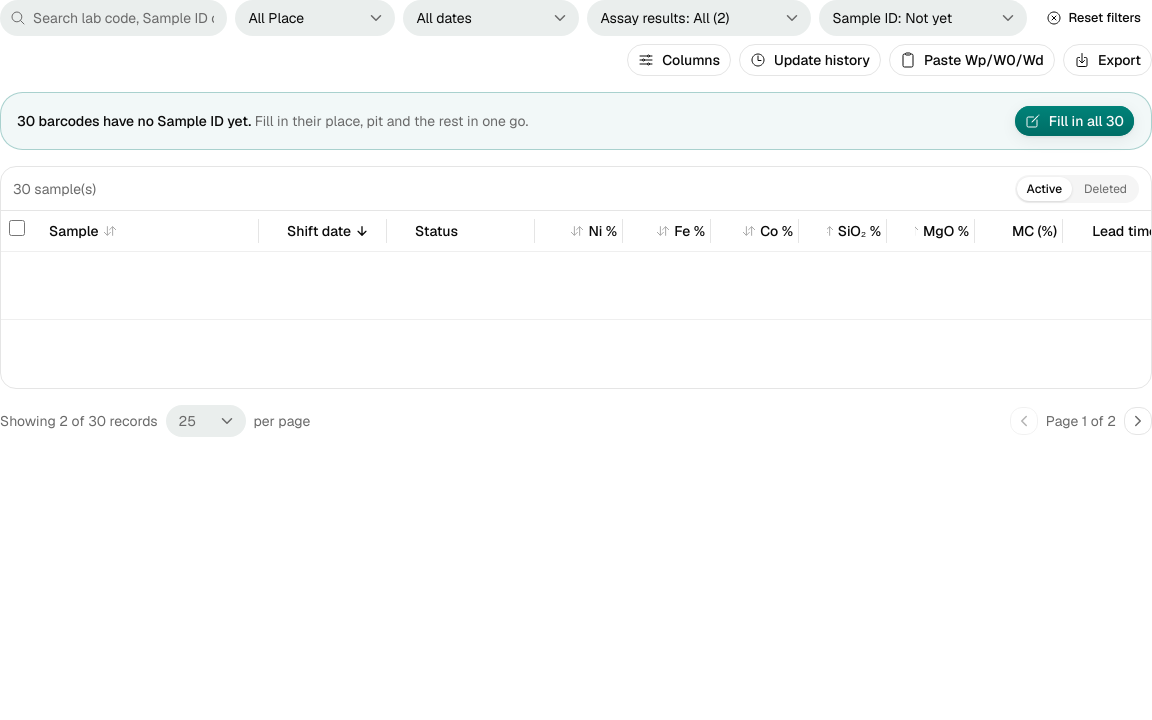
Scenario: filling in identities › invites filling in every barcode still without a Sample ID, in one go
Check: the text "30 barcodes have no Sample ID yet." is shown, box [17,112,251,130]
Click the button "Fill in all 30".
click(1074, 121)  # box [1014,105,1135,137]
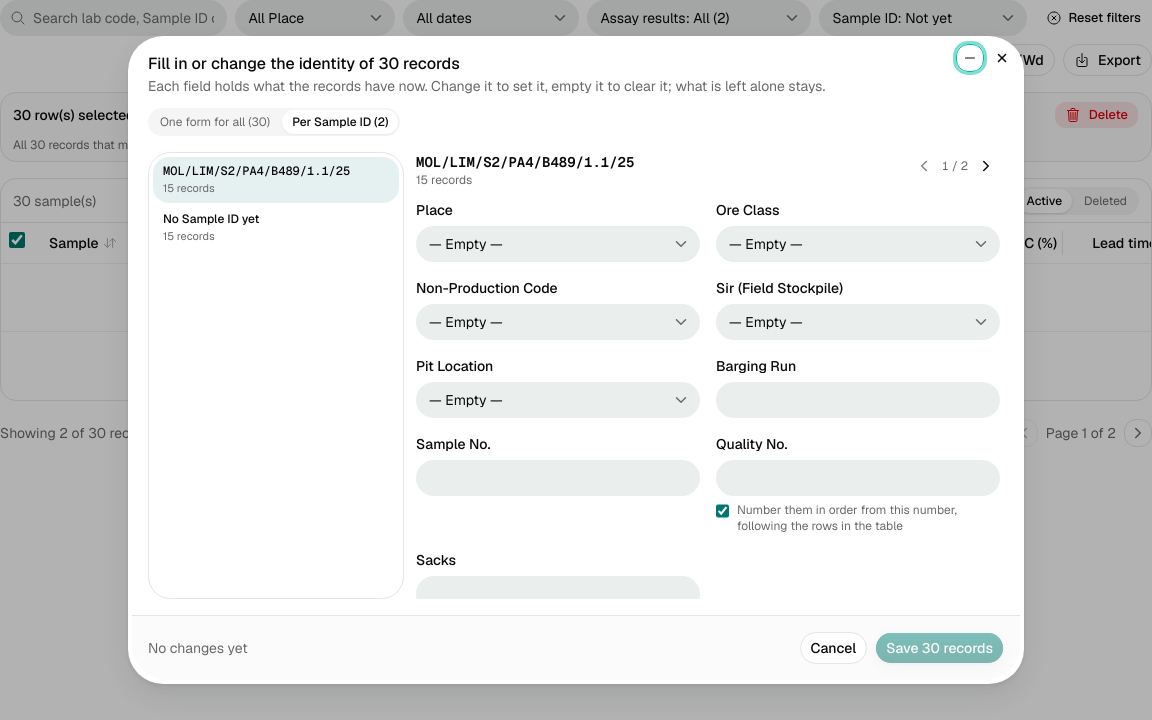
Check: the dialog is shown
Check: the heading "Fill in or change the identity of 30 records" is shown, box [148,53,460,74]
